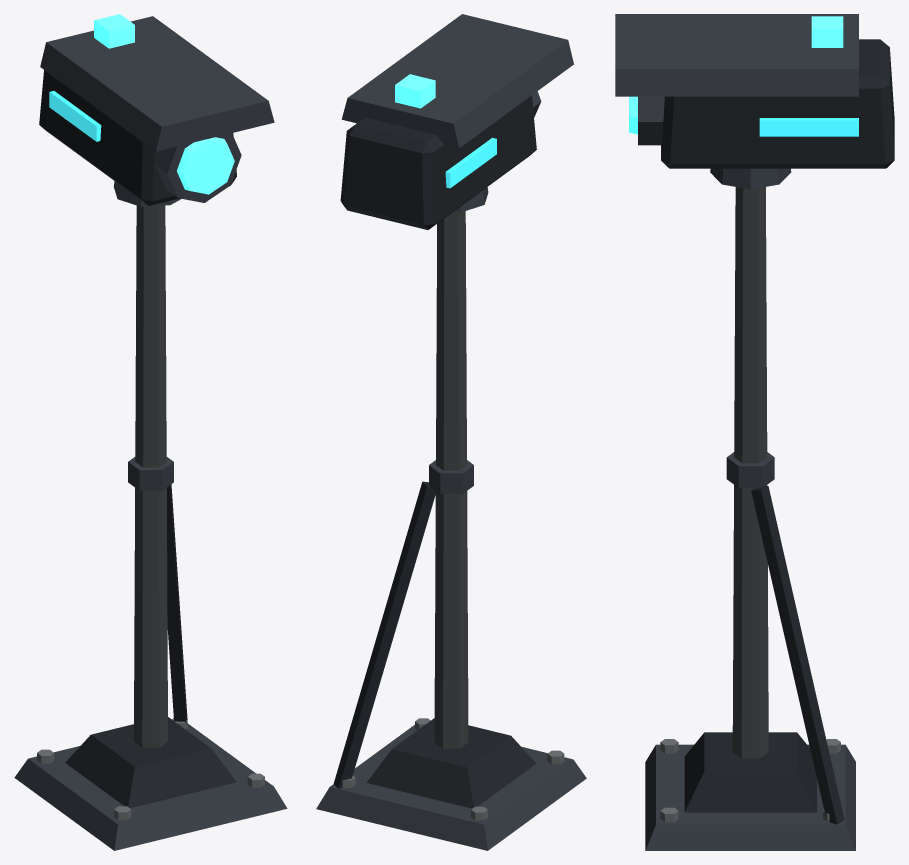
Rendered from device_camera.glb.
The picture shows the model from 3 angles, left to right: view 1: azimuth 30°, elevation 25°; view 2: azimuth 150°, elevation 25°; view 3: azimuth 270°, elevation 25°; orthographic projection. The views are drawn at different scales.
Parts seen in each view (by area): view 1: mount, head, lens; view 2: mount, head; view 3: mount, head, lens.
Part boxes in pixels (box(x1,y1,x2,y2)): mount: box(14, 205, 287, 850); head: box(39, 14, 274, 206); lens: box(155, 133, 241, 202); mount: box(316, 211, 586, 850); head: box(340, 14, 573, 229); mount: box(645, 187, 855, 850); head: box(615, 14, 894, 189); lens: box(629, 96, 664, 145).
Size of the model in its own units: 0.7 by 2.87 by 0.9282.
